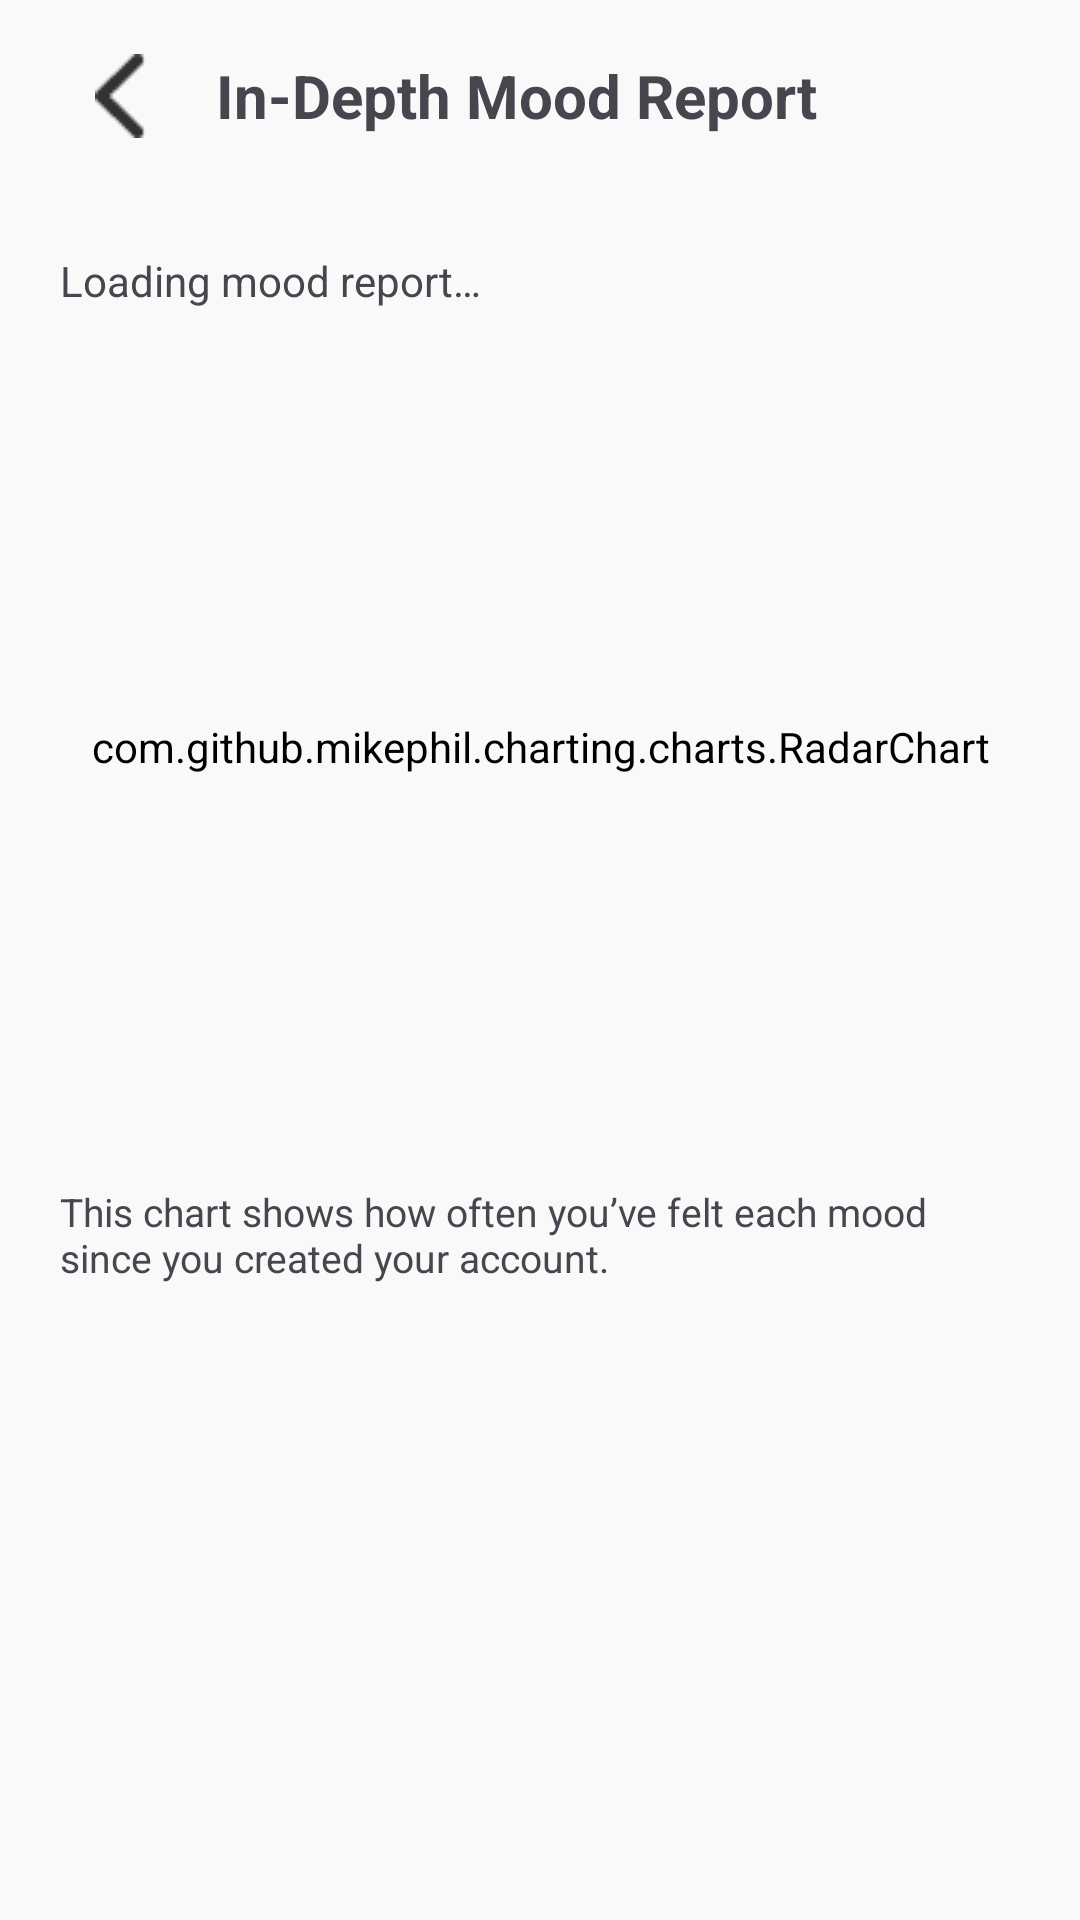

Icon click points for this 1080w x 1920h phone screenshot, format (x,y):
Back: (119,96)
